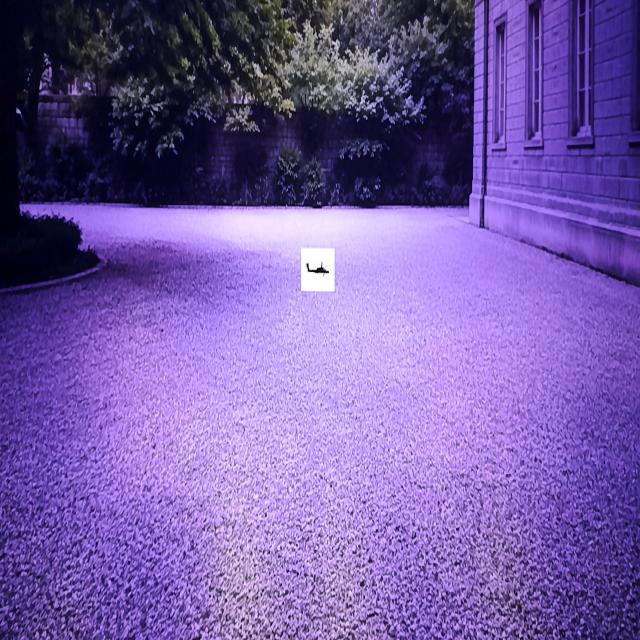Apache friendly: (305, 262, 329, 277)
